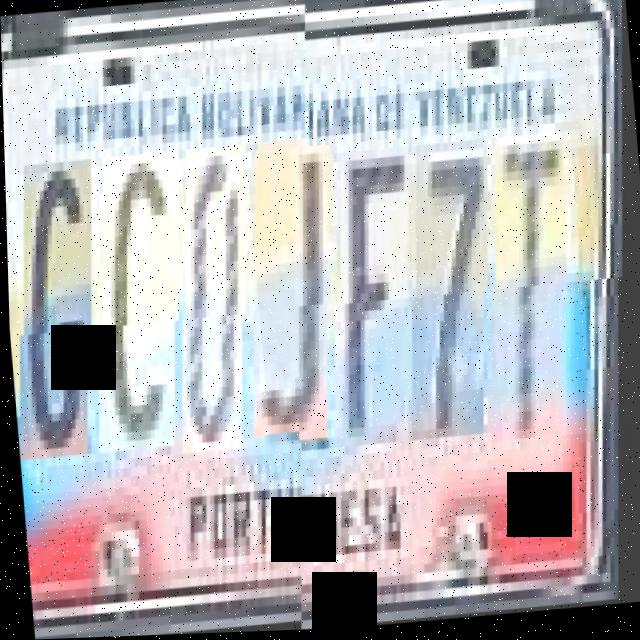0: (168, 154, 270, 463)
7: (400, 143, 512, 444)
C: (86, 160, 202, 462)
F: (324, 149, 432, 450)
G: (7, 168, 115, 469)
J: (241, 146, 357, 449)
T: (478, 136, 592, 445)
